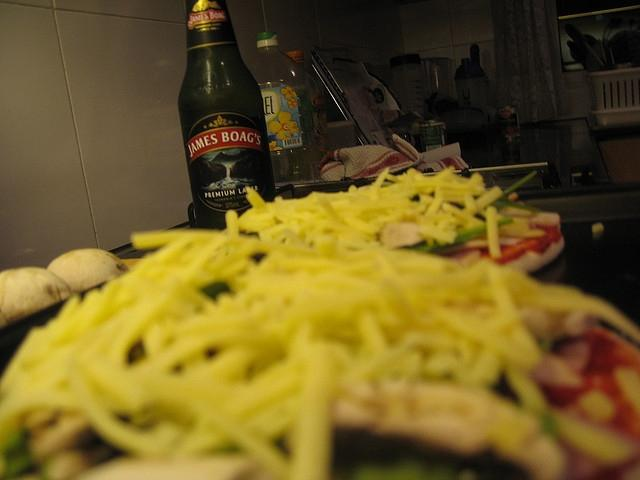mushroom: (2, 266, 71, 324), (46, 248, 130, 294), (381, 222, 426, 250)
